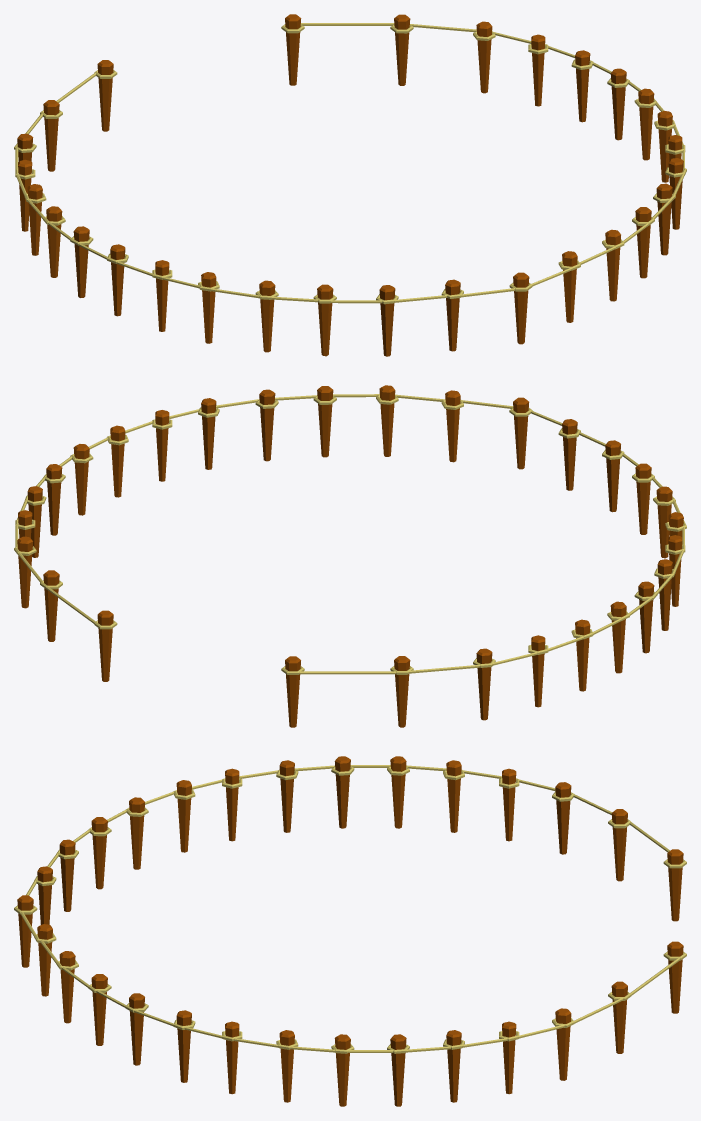
Rendered from GEO_fence_circle.fbx.
3 renders of one model, top to bottom at view 1: azimuth 30°, elevation 25°; view 2: azimuth 150°, elevation 25°; view 3: azimuth 270°, elevation 25°, orthographic.
Visible parts, largest first — view 1: GEO_fence_circle; view 2: GEO_fence_circle; view 3: GEO_fence_circle.
Part boxes in pixels (<box>): GEO_fence_circle: <box>14,14,686,356</box>; GEO_fence_circle: <box>14,385,686,727</box>; GEO_fence_circle: <box>14,756,686,1106</box>.
Bounding box in the file's own units: 855 × 95.24 × 846.
